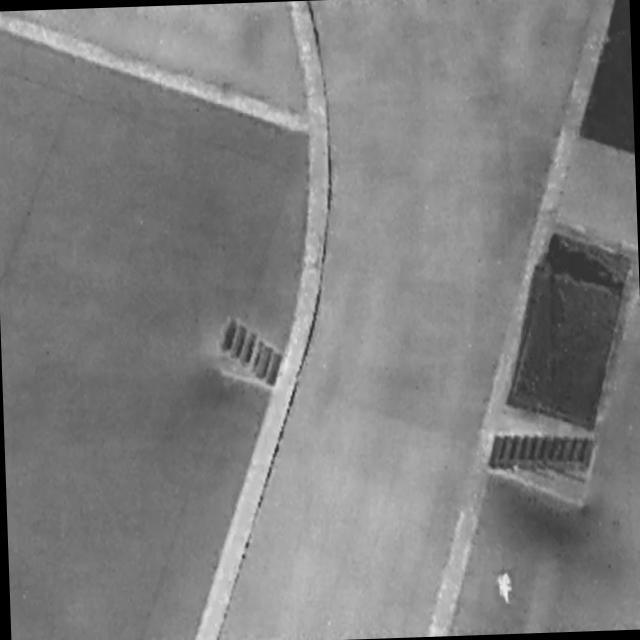person: (496, 569, 514, 605)
